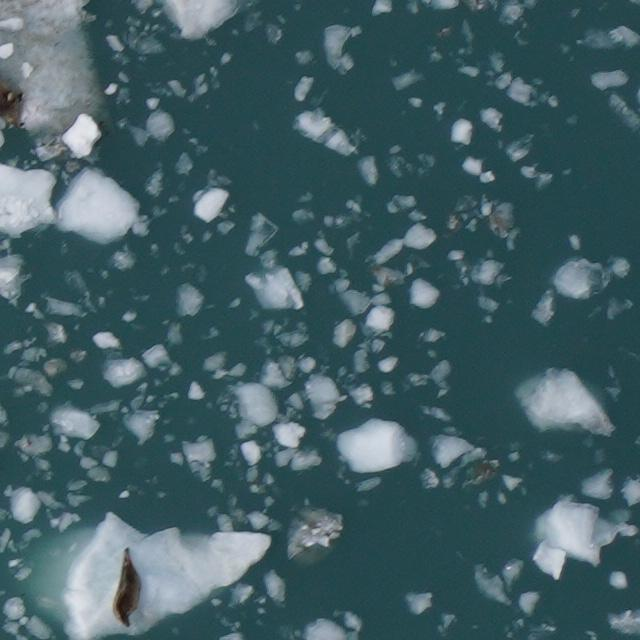seal: (112, 547, 143, 627)
